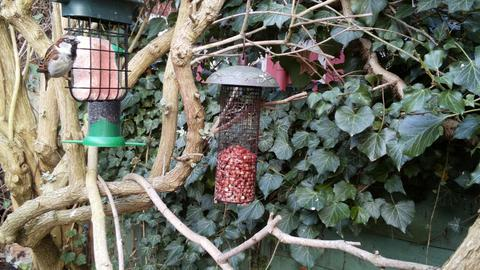sparrow: (36, 35, 82, 91)
